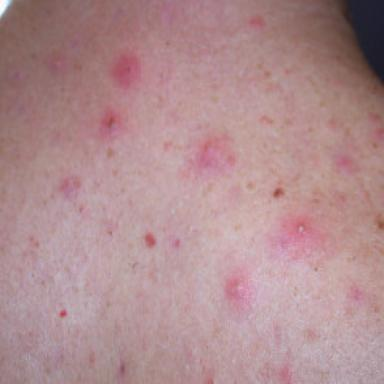acne: (280, 217, 329, 259), (190, 134, 236, 176), (224, 268, 256, 312), (112, 54, 140, 87), (100, 107, 123, 137), (59, 175, 81, 199), (46, 51, 66, 73), (335, 155, 357, 174), (250, 16, 264, 29)
